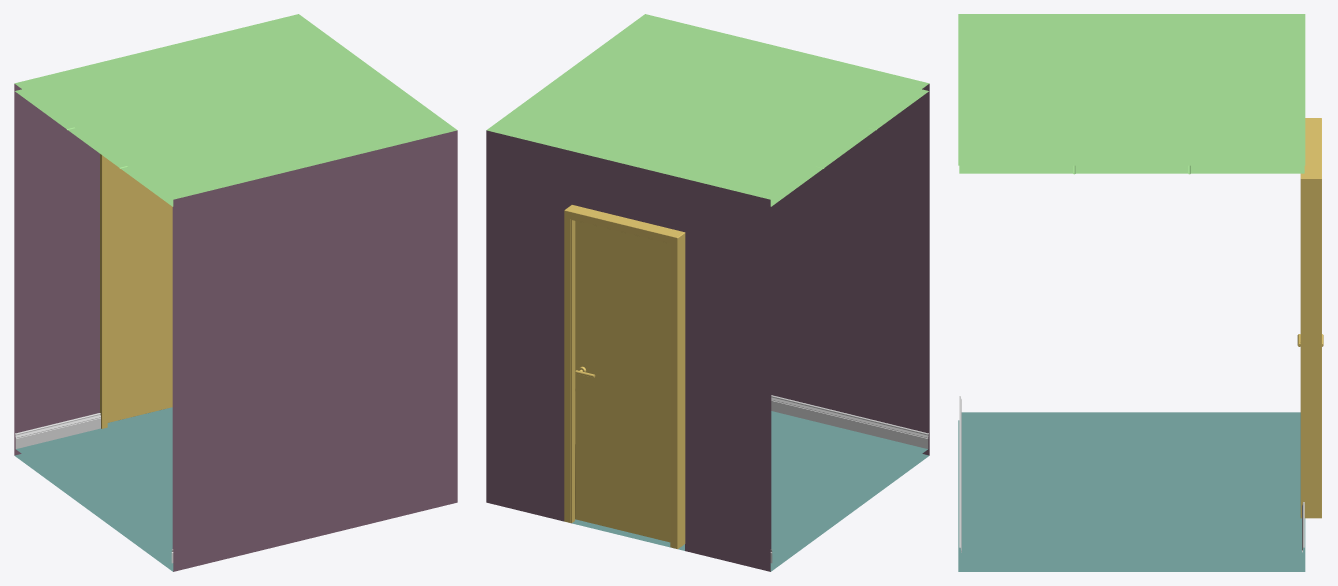
Rendered from Corridor_1_door_w_light.fbx.
3 renders of one model, left to right at view 1: azimuth 30°, elevation 25°; view 2: azimuth 150°, elevation 25°; view 3: azimuth 270°, elevation 25°, orthographic. The views are drawn at different scales.
Visible parts, largest first — view 1: Corridor_wall_door_1_hole, Door, Doorframe, Corridor_1_door_ceiling; view 2: Corridor_wall_door_1_hole, Door, Doorframe, Corridor_1_door_ceiling; view 3: Corridor_wall_door_1_hole, Doorframe, Corridor_1_door_ceiling.
Boxes of the visible parts, x1,y1,x2,y2 form: Corridor_wall_door_1_hole: (14,14,457,571); Door: (107,159,172,422); Doorframe: (100,154,107,428); Corridor_1_door_ceiling: (15,89,173,206); Corridor_wall_door_1_hole: (486,14,929,571); Door: (575,221,670,542); Doorframe: (564,205,685,549); Corridor_1_door_ceiling: (770,89,928,206); Corridor_wall_door_1_hole: (958,14,1305,571); Doorframe: (1300,118,1321,518); Corridor_1_door_ceiling: (959,165,1304,174).
Size of the model in its own units: 2 by 2.5 by 2.04.
